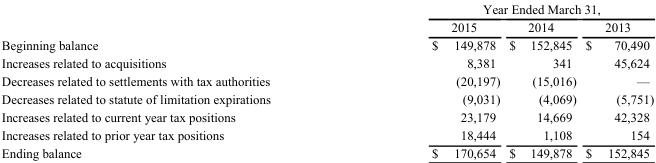table: (0, 1, 653, 160)
table column: (0, 1, 350, 160), (350, 1, 504, 160), (504, 1, 580, 160), (580, 1, 653, 160)
table column header: (0, 1, 653, 35)
table row: (0, 17, 653, 35), (0, 35, 653, 53), (0, 53, 653, 71), (0, 71, 653, 89), (0, 89, 653, 107), (0, 107, 653, 125), (0, 125, 653, 143), (0, 143, 653, 160), (0, 1, 653, 17)
table spanning cell: (350, 1, 653, 17)
